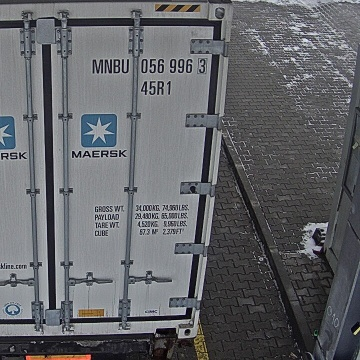serial_id: (92, 58, 205, 73)
